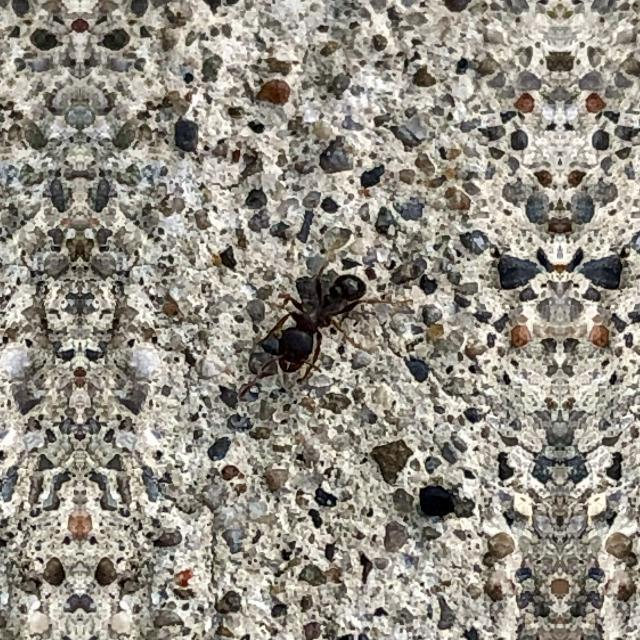Tetramorium: (256, 242, 378, 386)
